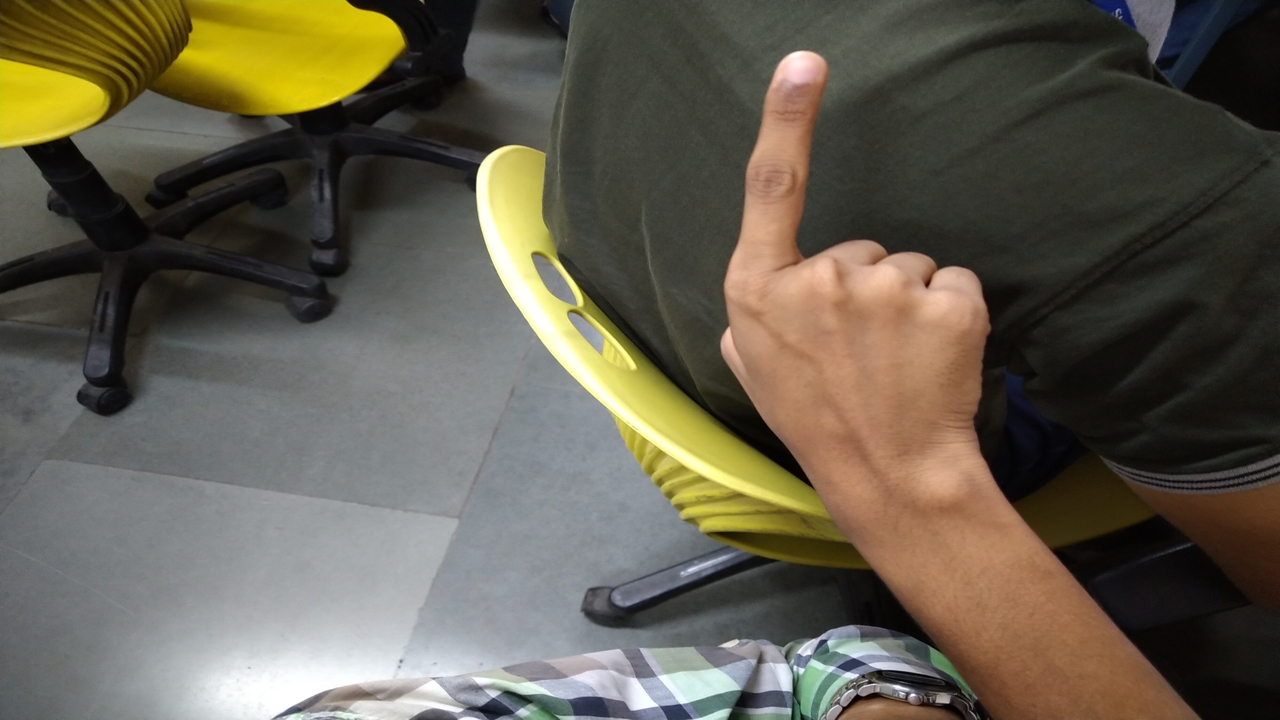fingertip: (770, 46, 834, 102)
